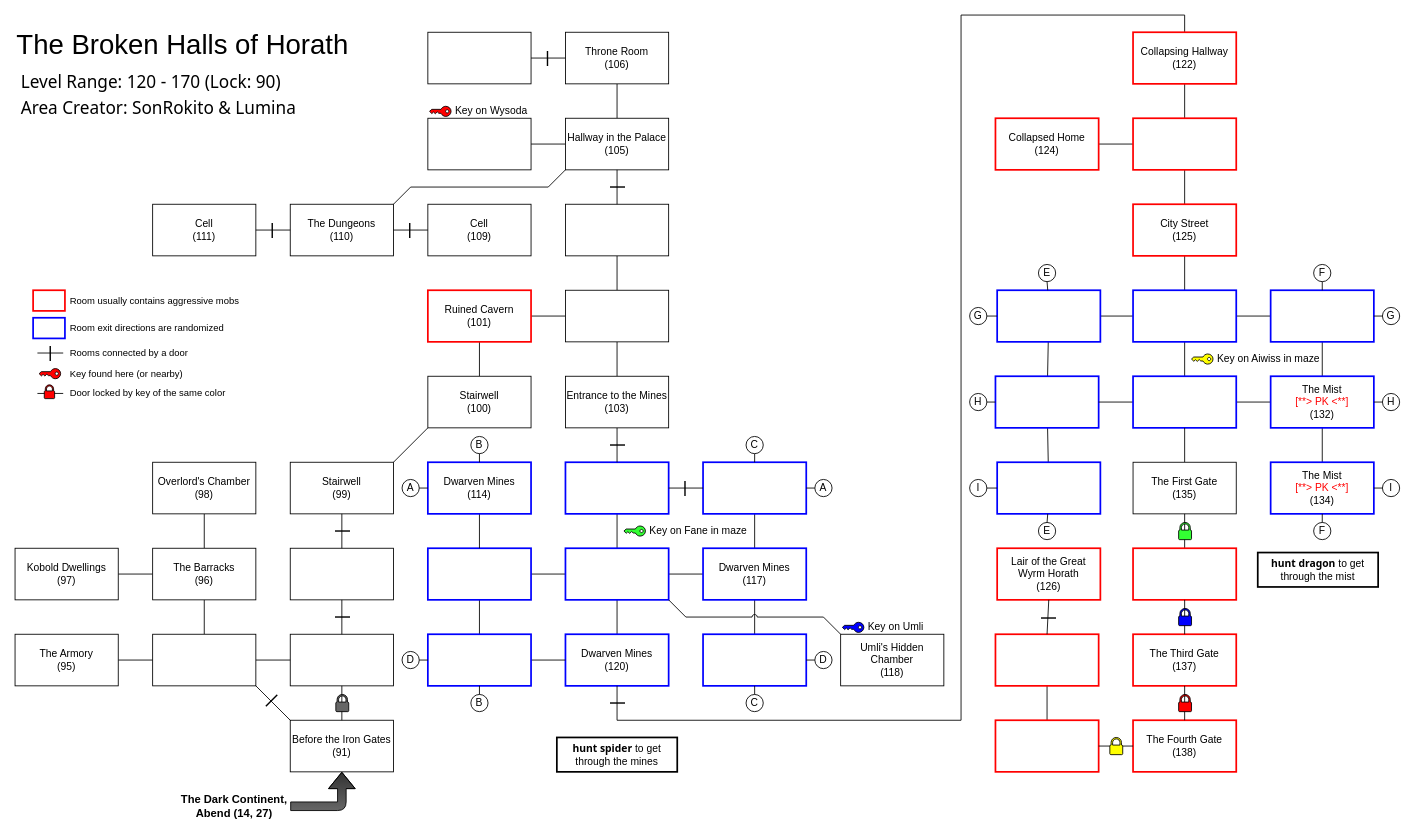
The diagram is 1415 pixels wide and 839 high, and some of its shapes have lost their labels. The shapes that lost their labels are listed below. From the top down, each one's centre as x and y in pixels, then its label:
point 479,57: Royal Bedroom (108)
point 479,143: Servants' Quarters (107)
point 1184,143: City Street (123)
point 617,229: Nearing the Palace (104)
point 617,315: Along the River (102)
point 1048,315: The Mist [**> PK <**] (127)
point 1184,315: The Mist [**> PK <**] (128)
point 1321,315: The Mist [**> PK <**] (129)
point 1046,401: The Mist [**> PK <**] (130)
point 1184,401: The Mist [**> PK <**] (131)
point 616,487: Dwarven Mines (112)
point 754,487: Dwarven Mines (113)
point 1048,487: The Mist [**> PK <**] (133)
point 341,573: Long Corridor (94)
point 479,573: Dwarven Mines (115)
point 616,573: Dwarven Mines (116)
point 1184,573: The Second Gate (136)
point 204,659: The Barracks (93)
point 341,659: Main Hall (92)
point 479,659: Dwarven Mines (119)
point 754,659: Dwarven Mines (121)
point 1046,659: Lair of the Great Wyrm Horath (140)
point 1046,745: Vast Cavern (139)
